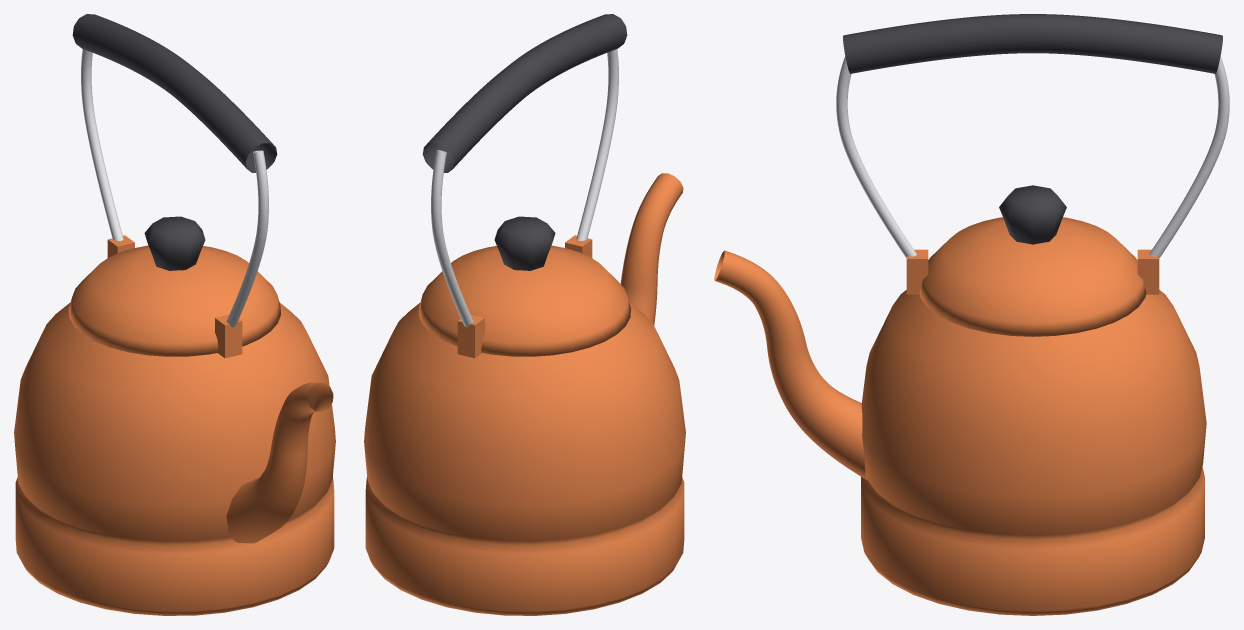
Rendered from kitchen_kettle.glb.
The picture shows the model from 3 angles, left to right: view 1: azimuth 30°, elevation 25°; view 2: azimuth 150°, elevation 25°; view 3: azimuth 270°, elevation 25°; orthographic projection. The views are drawn at different scales.
Visible parts, largest first — view 1: kitchen_kettle; view 2: kitchen_kettle; view 3: kitchen_kettle.
Boxes of the visible parts, left/top/right/bottom form: kitchen_kettle: left=14, top=14, right=335, bottom=615; kitchen_kettle: left=364, top=14, right=685, bottom=615; kitchen_kettle: left=714, top=14, right=1229, bottom=615.
Bounding box in the file's own units: 0.194 × 0.326 × 0.2878.
